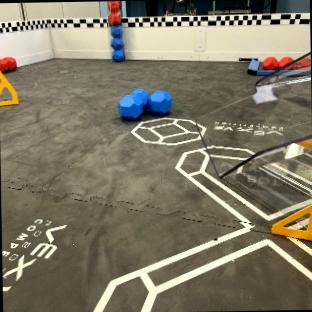Med_goal: (191, 53, 312, 239)
V5_BLUE: (118, 89, 171, 119), (111, 25, 123, 59)
V5_RED: (108, 1, 121, 24), (0, 57, 15, 71), (294, 58, 310, 66)
